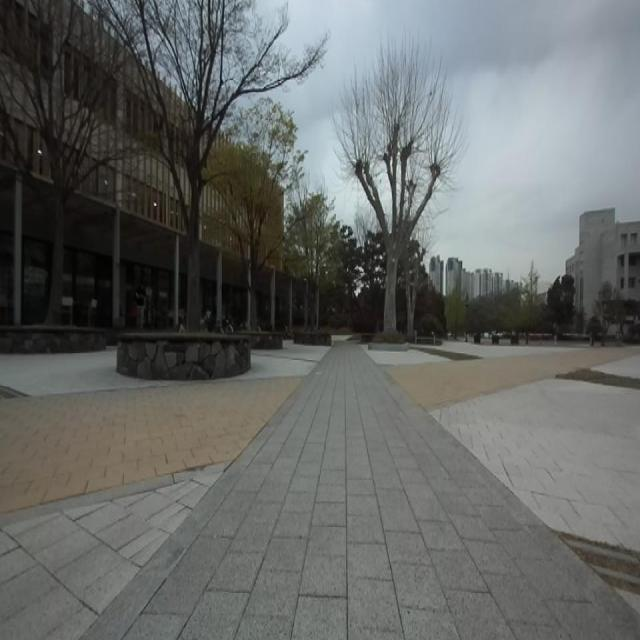sidewalk: (86, 345, 640, 639), (0, 377, 301, 513), (387, 354, 625, 409)
